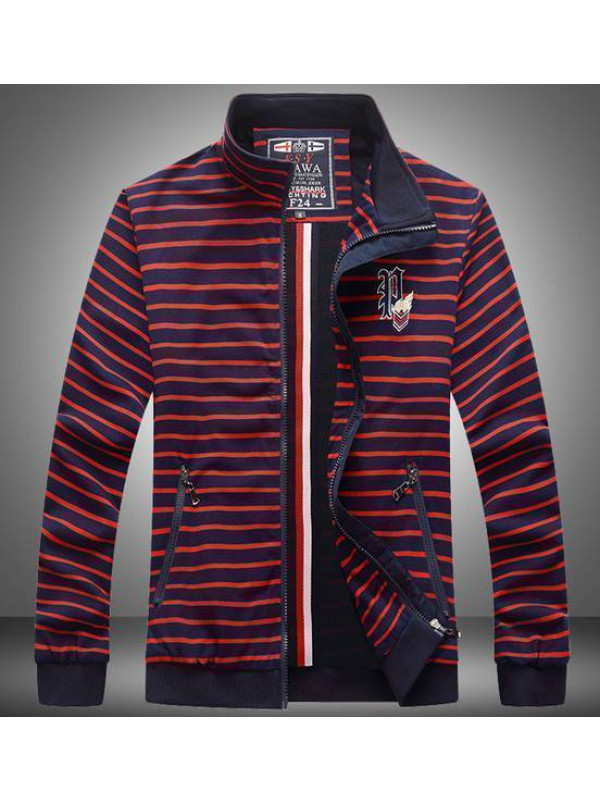striped: (28, 115, 579, 676)
